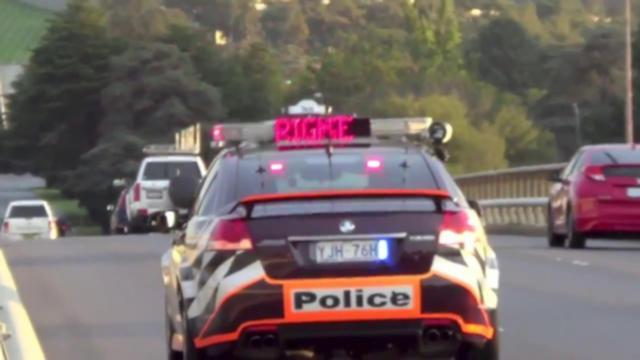police_car: (168, 116, 503, 354)
